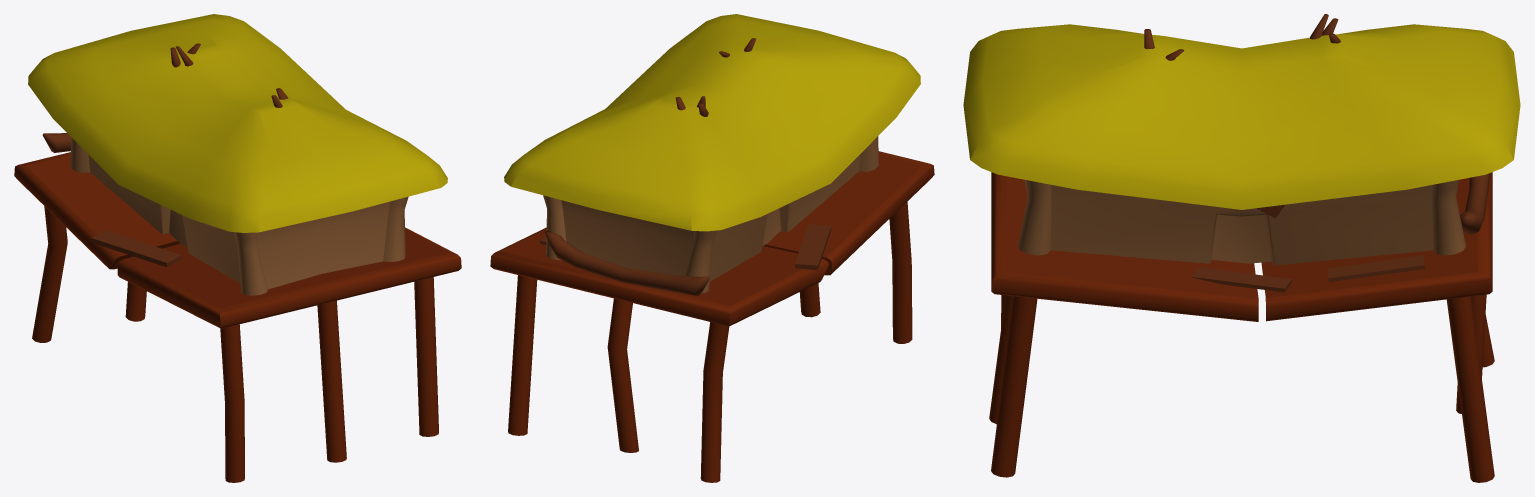
Rendered from Broken_House.fbx.
The picture shows the model from 3 angles, left to right: view 1: azimuth 30°, elevation 25°; view 2: azimuth 150°, elevation 25°; view 3: azimuth 270°, elevation 25°; orthographic projection. The views are drawn at different scales.
Visible parts, largest first — view 1: Roof, Stuts, Walls, Details; view 2: Roof, Stuts, Walls, Details; view 3: Roof, Stuts, Walls, Details.
Part boxes in pixels (<box>): Roof: <box>28,14,447,232</box>; Stuts: <box>14,152,461,482</box>; Walls: <box>70,137,408,295</box>; Details: <box>42,43,287,266</box>; Roof: <box>504,14,920,231</box>; Stuts: <box>490,151,934,482</box>; Walls: <box>543,136,878,293</box>; Details: <box>540,38,831,295</box>; Roof: <box>963,24,1520,209</box>; Stuts: <box>989,172,1494,482</box>; Walls: <box>1018,180,1465,265</box>; Details: <box>1144,14,1489,292</box>.
Size of the model in its own units: 276 by 344 by 444.
